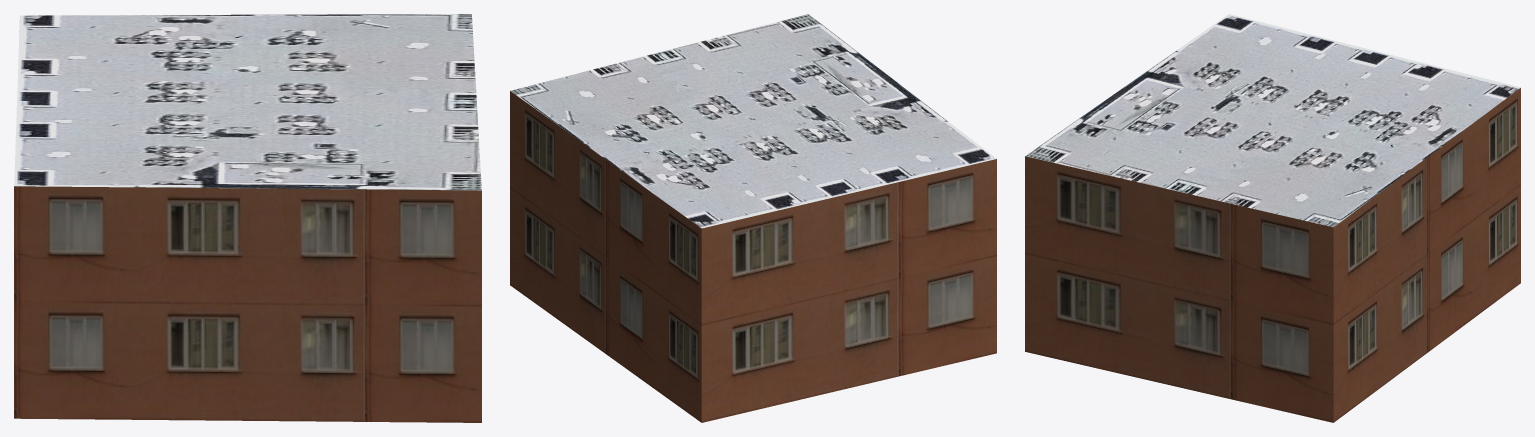
File: ResTex__789.fbx
3 renders of one model, left to right at view 1: azimuth 30°, elevation 25°; view 2: azimuth 150°, elevation 25°; view 3: azimuth 270°, elevation 25°, orthographic. The views are drawn at different scales.
Parts seen in each view (by area): view 1: CityEngineMaterial_20_m, CityEngineMaterial_2_m; view 2: CityEngineMaterial_20_m, CityEngineMaterial_2_m; view 3: CityEngineMaterial_20_m, CityEngineMaterial_2_m.
Part boxes in pixels (bbox=[...]): CityEngineMaterial_20_m: bbox=[14, 186, 481, 422]; CityEngineMaterial_2_m: bbox=[14, 14, 481, 190]; CityEngineMaterial_20_m: bbox=[510, 91, 996, 422]; CityEngineMaterial_2_m: bbox=[510, 14, 996, 228]; CityEngineMaterial_20_m: bbox=[1025, 88, 1520, 422]; CityEngineMaterial_2_m: bbox=[1025, 14, 1520, 227].
Size of the model in its own units: 14.04 by 6 by 13.79.
2 materials, 2 textured.
